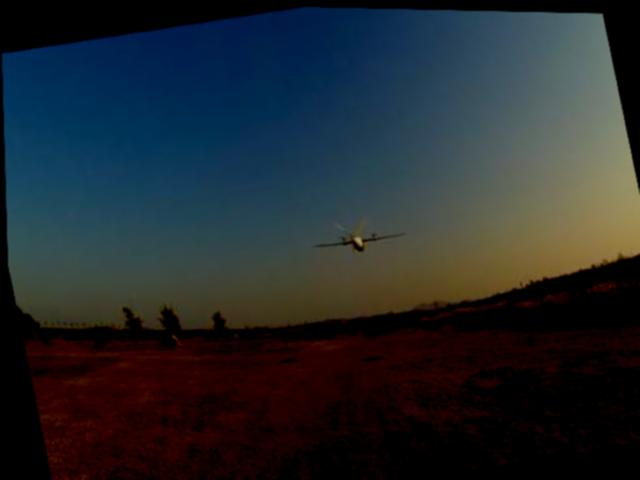uav: (296, 192, 418, 273)
